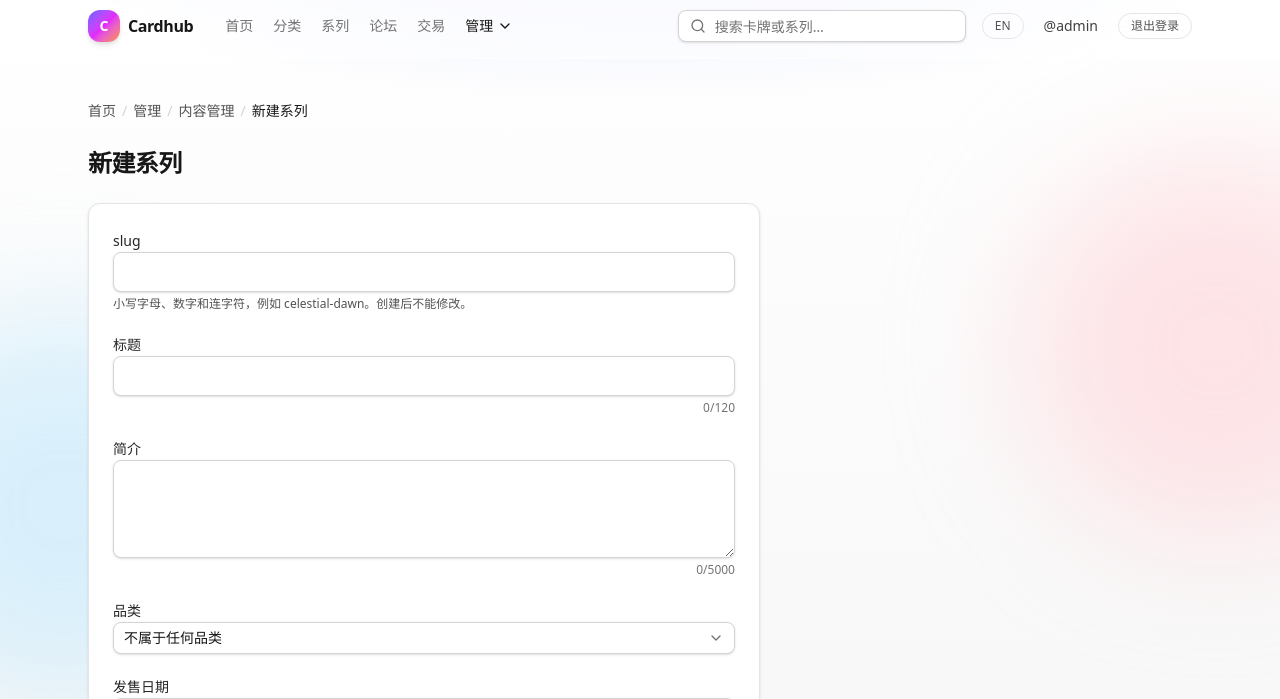
it: series form › shows the server validation message for a field instead of only the generic save failure
Type "new-series" into the field labelled "slug" at (424, 272), box [113,252,735,292]
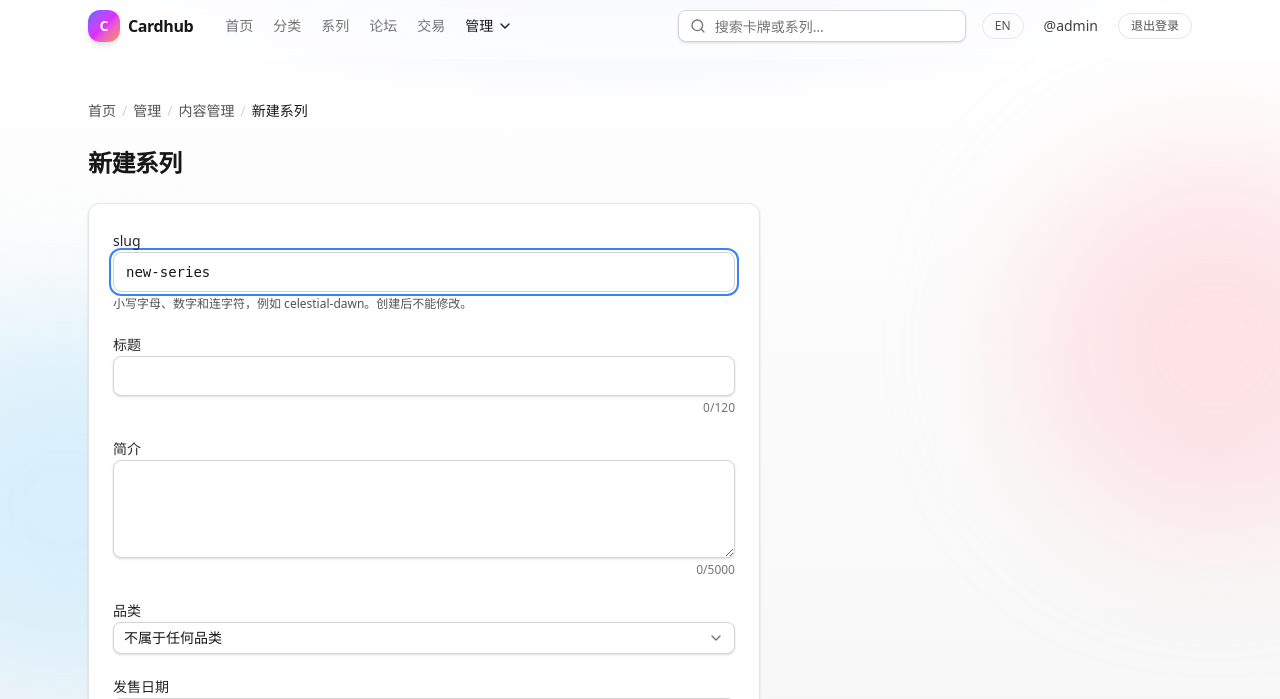
Type "新系列" into the field labelled "标题" at (424, 376), box [113,356,735,396]
(page scrolled)
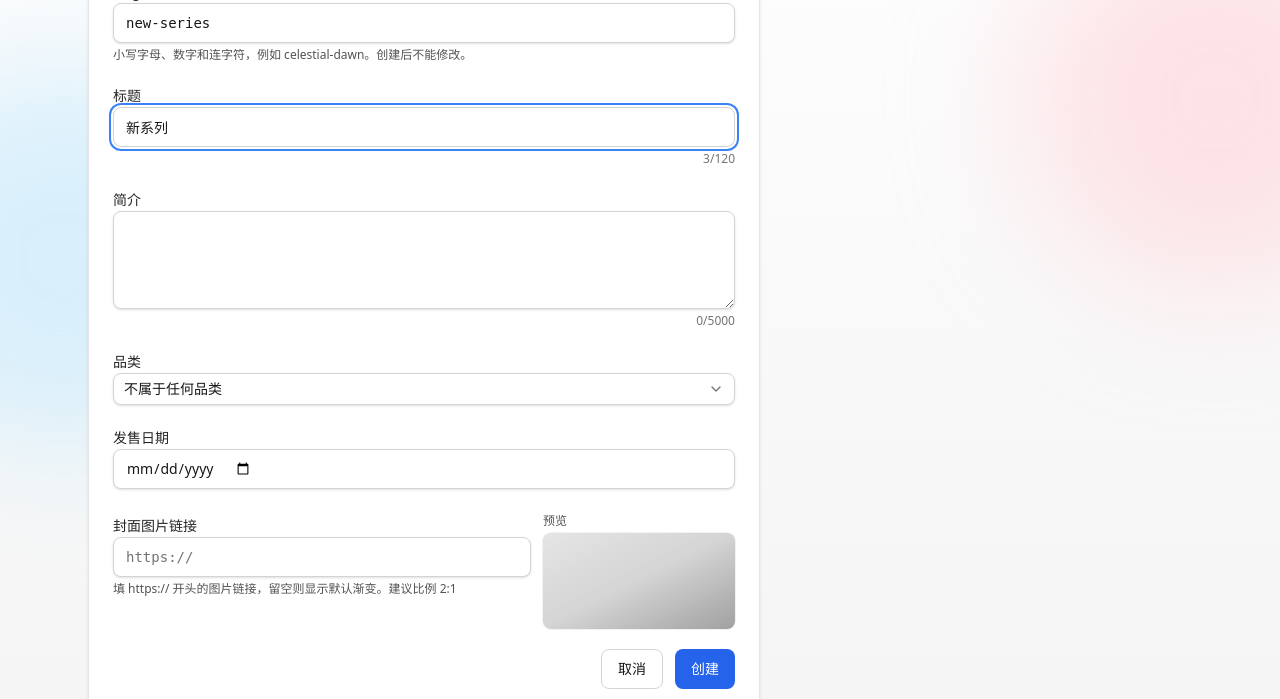
Click the button "创建" at (705, 669), box [675,649,735,689]
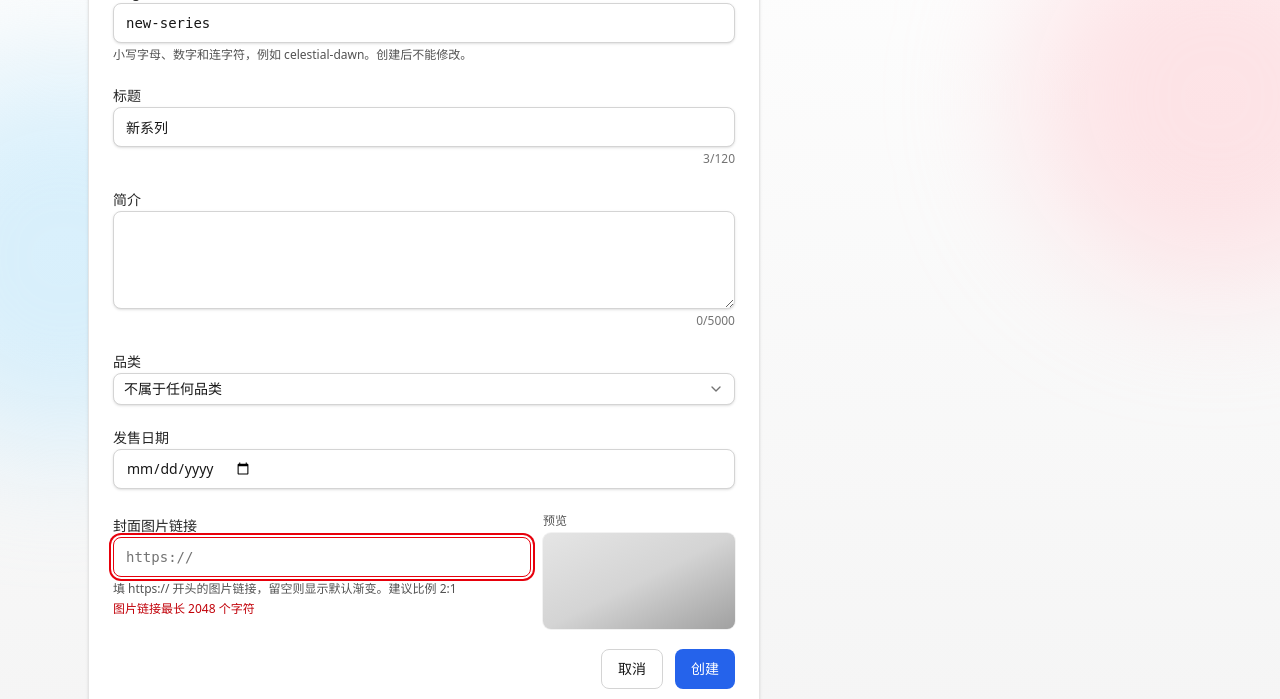
Result: the text "图片链接最长 2048 个字符" is shown at [113,600,255,617]
